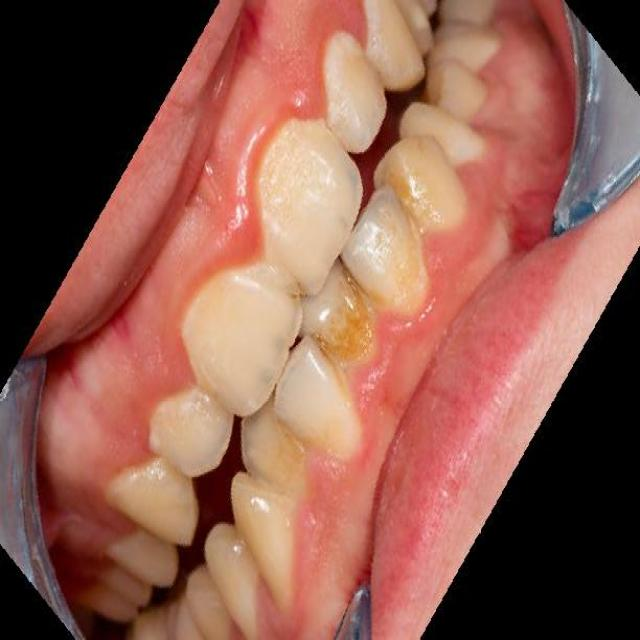calculus: (302, 286, 382, 366)
